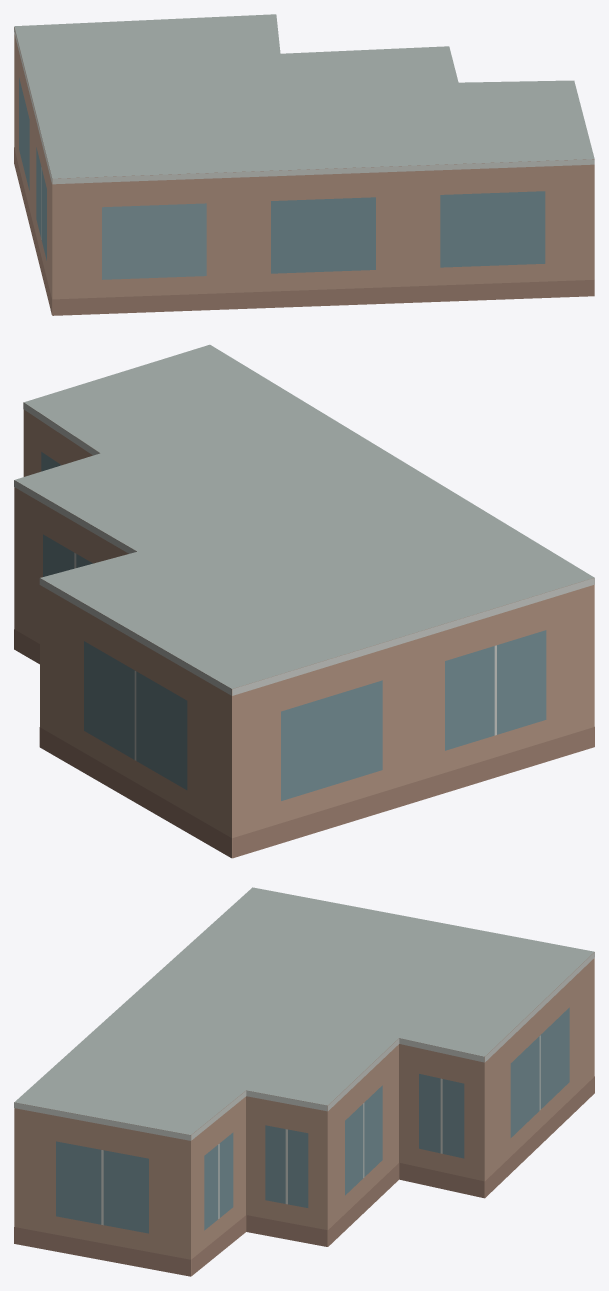
The model's file is survey-upis-32972627.glb.
3 renders of one model, top to bottom at view 1: azimuth 30°, elevation 25°; view 2: azimuth 150°, elevation 25°; view 3: azimuth 270°, elevation 25°, orthographic. The views are drawn at different scales.
Visible parts, largest first — view 1: survey-upis-32972627.tmp; view 2: survey-upis-32972627.tmp; view 3: survey-upis-32972627.tmp.
Boxes of the visible parts, x1,y1,x2,y2 form: survey-upis-32972627.tmp: [14, 14, 594, 315]; survey-upis-32972627.tmp: [14, 344, 594, 858]; survey-upis-32972627.tmp: [14, 887, 594, 1276].
Size of the model in its own units: 11.47 by 3.05 by 11.36.
